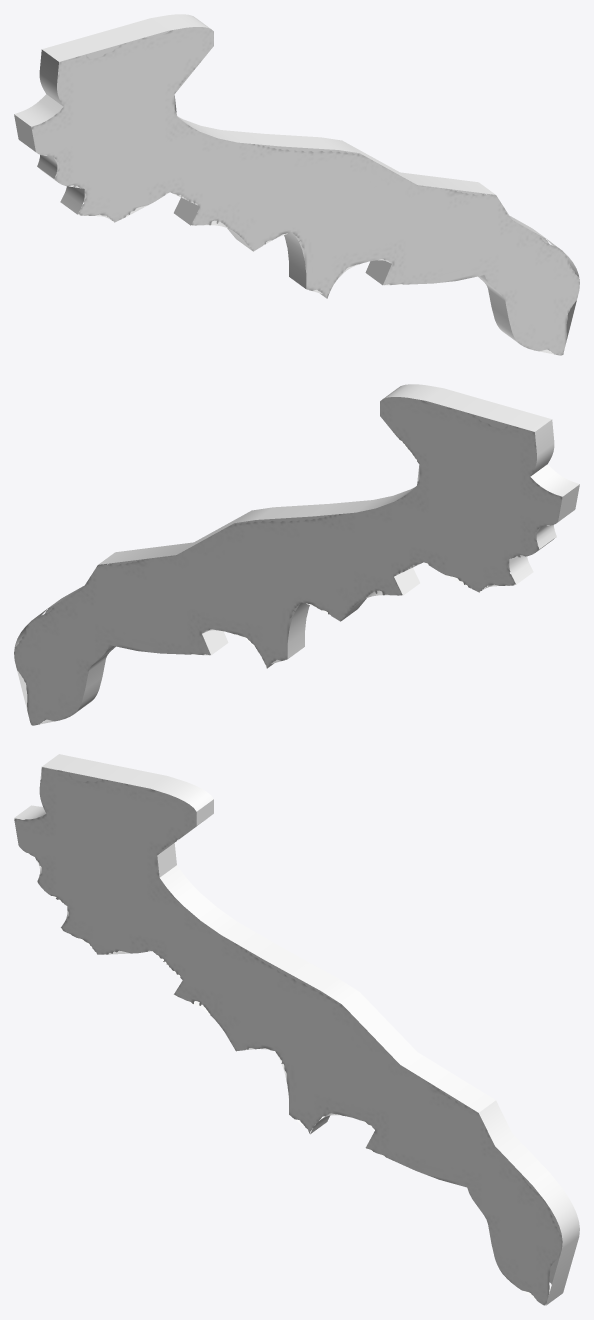
Rendered from Puglia.obj.
The picture shows the model from 3 angles, top to bottom: view 1: azimuth 30°, elevation 25°; view 2: azimuth 150°, elevation 25°; view 3: azimuth 330°, elevation 25°; orthographic projection.
Size of the model in its own units: 237 by 174 by 13.
Materials: 3 (3 with a texture image).
